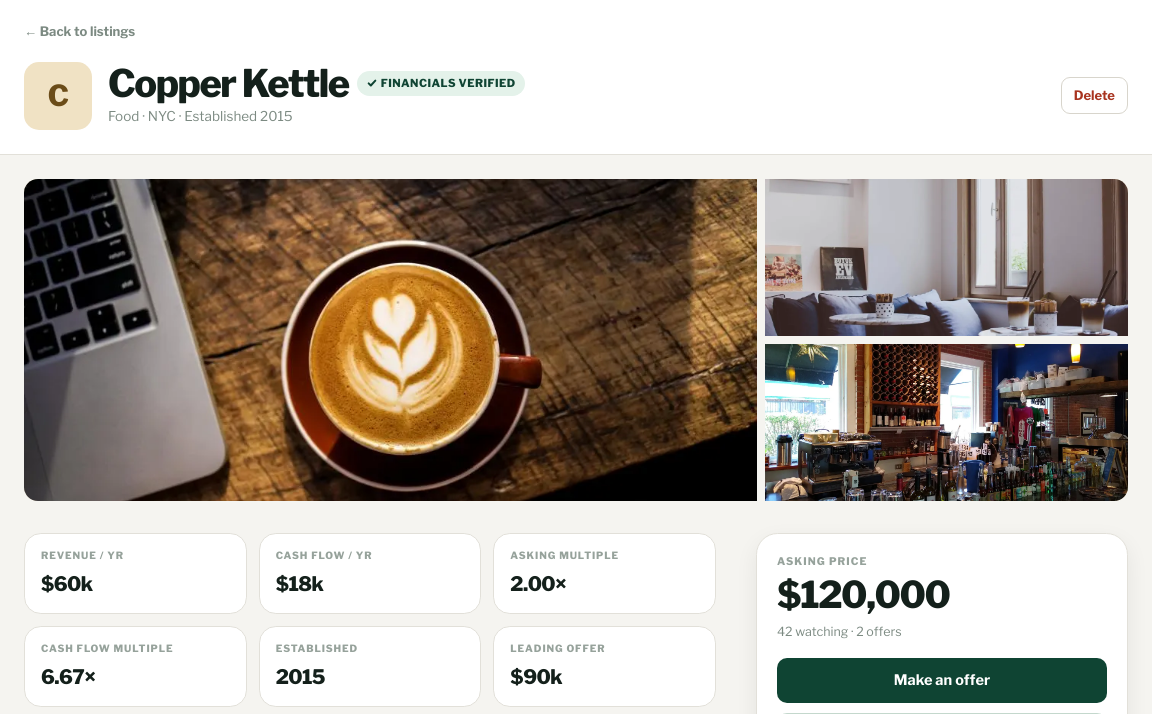
Test: ListingDetail › make an offer › submits the filled form and toasts success
Expected: the heading "Copper Kettle" is shown, 108,64 -> 349,102
Step 1. Click the button "Make an offer" → (942, 680), box 777,658 -> 1107,703
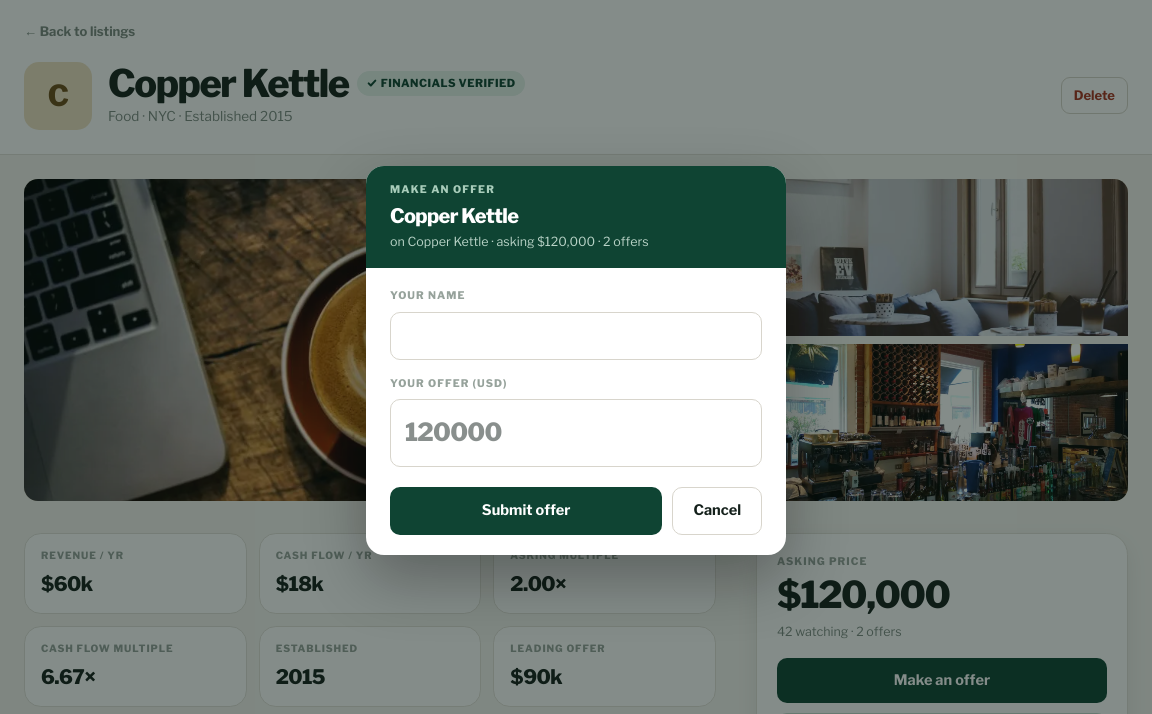
Step 2. Type "New Bidder" into the field labelled "Your name" → (576, 336), box 390,312 -> 762,360
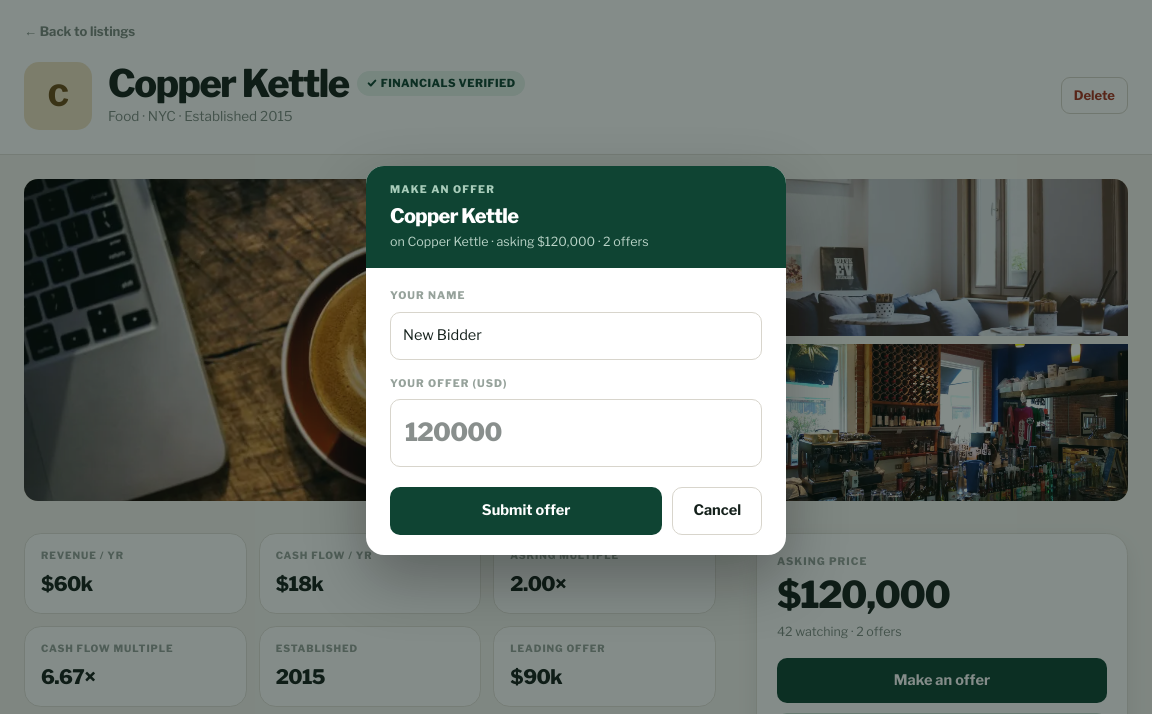
Step 3. Type "99000" into the number field labelled "Your offer (USD)" → (576, 433), box 390,399 -> 762,467
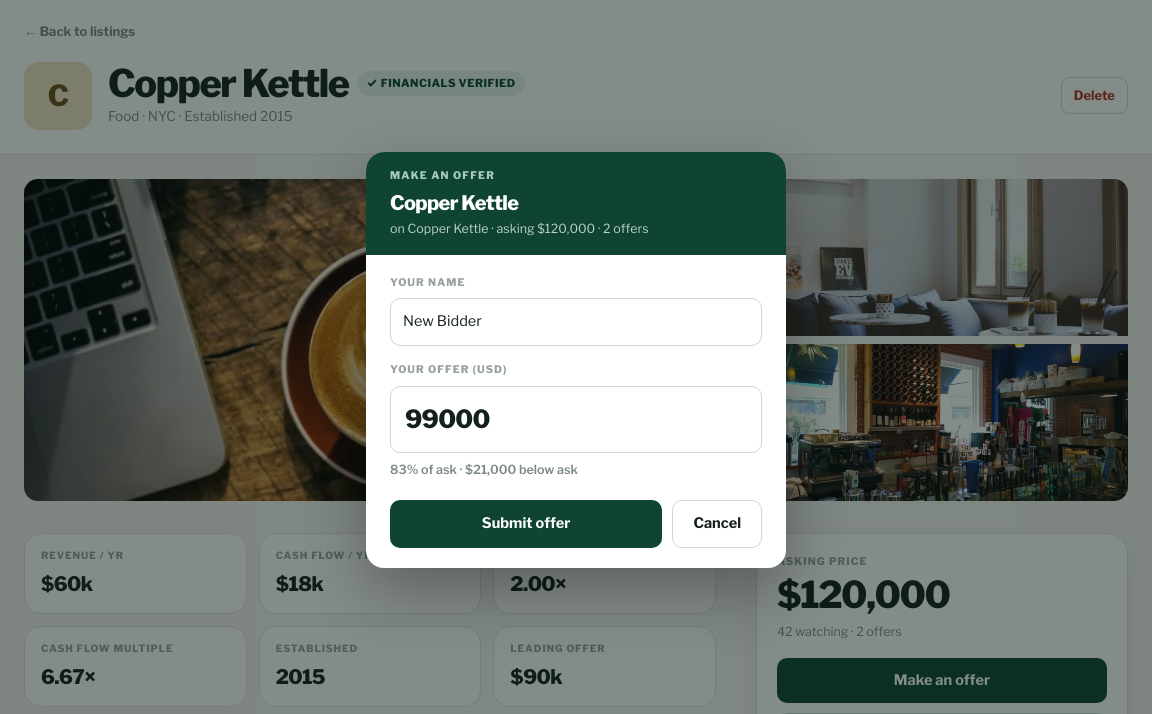
Step 4. Click the button "Submit offer" → (526, 524), box 390,500 -> 662,548
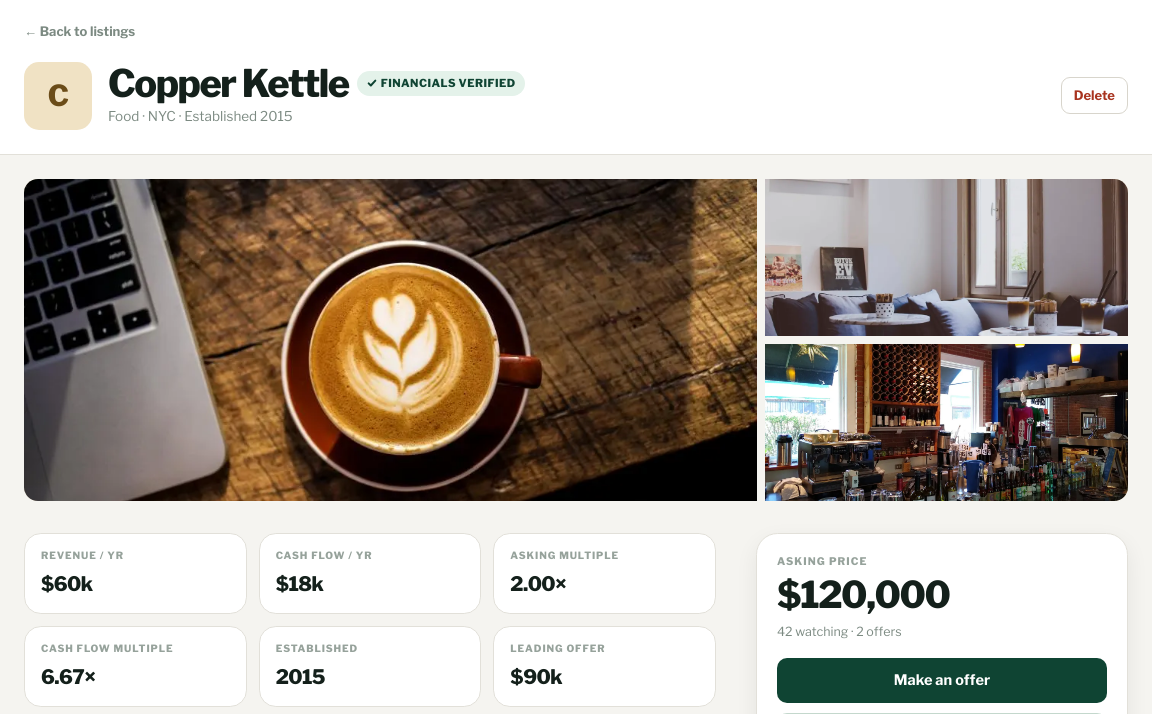
Now the button "Submit offer" is gone
